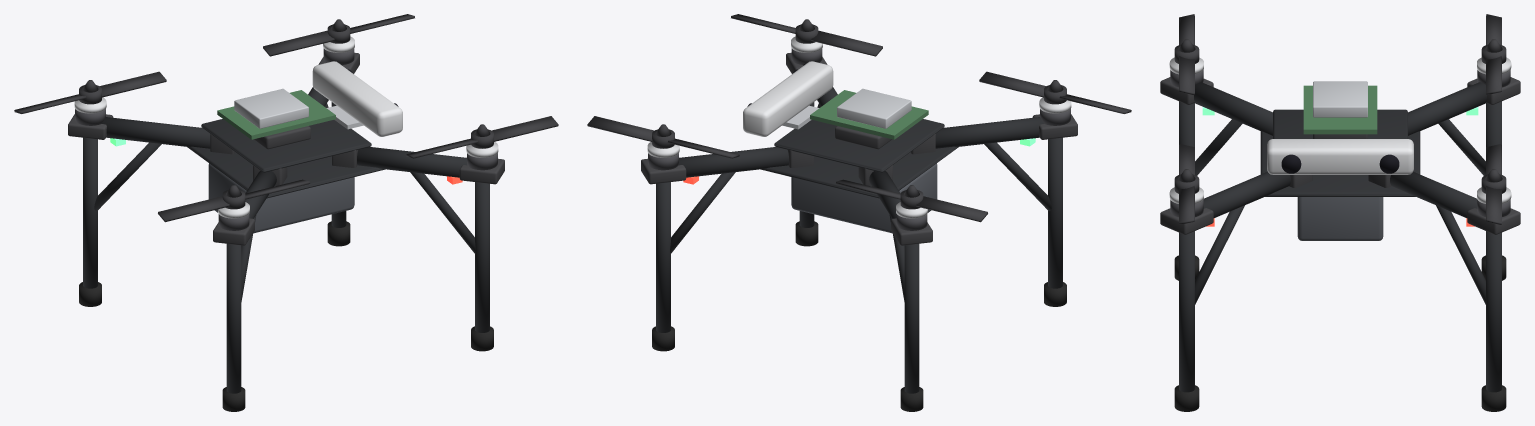
Rendered from drone.glb.
3 renders of one model, left to right at view 1: azimuth 30°, elevation 25°; view 2: azimuth 150°, elevation 25°; view 3: azimuth 270°, elevation 25°, orthographic. The views are drawn at different scales.
Parts seen in each view (by area): view 1: plate_high, battery, cam_bar, plate_low, leg_rr, leg_fr, leg_rl, arm_rl, arm_fr, stack_pc_sink, stack_pc, prop_cw_rr (+11 smaller); view 2: plate_high, battery, cam_bar, plate_low, leg_rl, leg_fl, leg_rr, arm_rr, arm_fl, stack_pc_sink, stack_pc, prop_ccw_rl (+11 smaller); view 3: cam_bar, battery, plate_low, leg_fr, leg_fl, stack_pc_sink, stack_pc, plate_high, arm_rl, arm_rr, arm_fr, arm_fl (+16 smaller).
Part boxes in pixels (bbox=[...]): plate_high: bbox=[201, 119, 371, 172]; battery: bbox=[208, 163, 354, 233]; cam_bar: bbox=[312, 61, 402, 136]; plate_low: bbox=[187, 146, 385, 198]; leg_rr: bbox=[226, 243, 241, 393]; leg_fr: bbox=[475, 182, 489, 332]; leg_rl: bbox=[83, 137, 97, 288]; arm_rl: bbox=[101, 117, 210, 148]; arm_fr: bbox=[357, 147, 467, 177]; stack_pc_sink: bbox=[234, 88, 308, 128]; stack_pc: bbox=[217, 90, 335, 139]; prop_cw_rr: bbox=[158, 179, 309, 222]; plate_high: bbox=[774, 119, 944, 172]; battery: bbox=[791, 163, 937, 233]; cam_bar: bbox=[743, 61, 833, 136]; plate_low: bbox=[760, 146, 958, 198]; leg_rl: bbox=[904, 243, 919, 393]; leg_fl: bbox=[656, 182, 670, 332]; leg_rr: bbox=[1048, 137, 1062, 288]; arm_rr: bbox=[935, 117, 1044, 148]; arm_fl: bbox=[678, 147, 788, 177]; stack_pc_sink: bbox=[837, 88, 911, 128]; stack_pc: bbox=[810, 90, 928, 139]; prop_ccw_rl: bbox=[836, 179, 987, 222]; cam_bar: bbox=[1267, 139, 1413, 174]; battery: bbox=[1297, 197, 1383, 240]; plate_low: bbox=[1260, 131, 1420, 196]; leg_fr: bbox=[1179, 231, 1194, 392]; leg_fl: bbox=[1486, 231, 1501, 392]; stack_pc_sink: bbox=[1313, 81, 1367, 117]; stack_pc: bbox=[1303, 85, 1377, 134]; plate_high: bbox=[1273, 109, 1407, 138]; arm_rl: bbox=[1408, 82, 1486, 135]; arm_rr: bbox=[1194, 82, 1272, 135]; arm_fr: bbox=[1203, 171, 1290, 217]; arm_fl: bbox=[1390, 171, 1477, 217].
Bounding box in the file's own units: 0.3963 × 0.216 × 0.2938.
